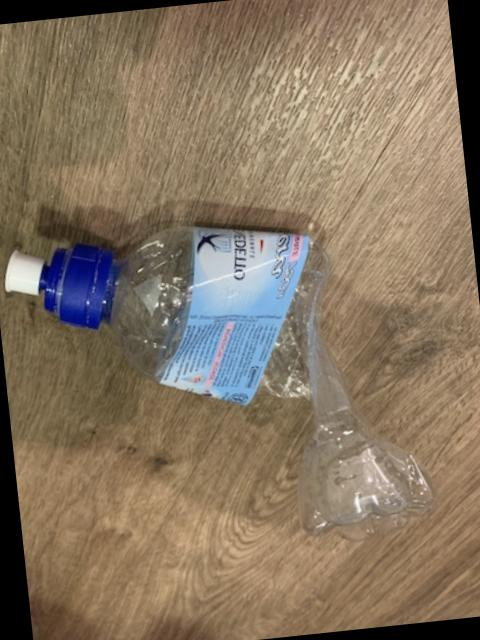plastic: (3, 224, 437, 539)
